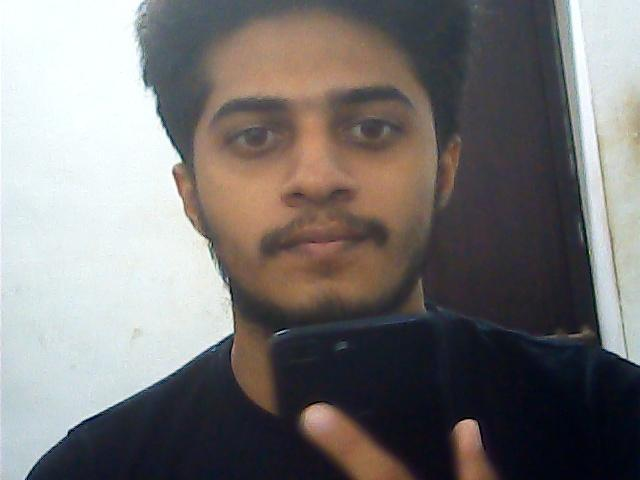PhoneUse: (252, 308, 484, 472)
SafeDriving: (328, 96, 418, 156), (214, 108, 300, 160)
